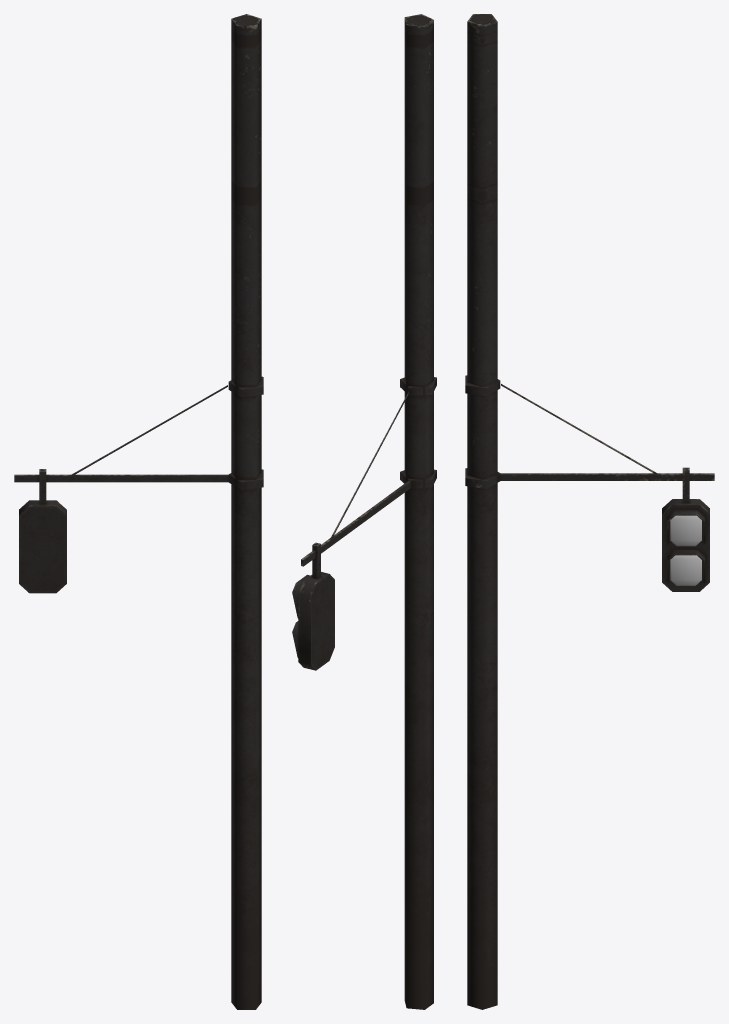
The model's file is jctlowTrafficLightE.fbx.
The picture shows the model from 3 angles, left to right: view 1: azimuth 90°, elevation 25°; view 2: azimuth 150°, elevation 25°; view 3: azimuth 270°, elevation 25°; orthographic projection.
Parts seen in each view (by area): view 1: jctlowTrafficLightE; view 2: jctlowTrafficLightE; view 3: jctlowTrafficLightE.
Part boxes in pixels (x1,y1,x2,y2): jctlowTrafficLightE: [14, 14, 263, 1009]; jctlowTrafficLightE: [292, 14, 436, 1009]; jctlowTrafficLightE: [465, 14, 714, 1009].
Size of the model in its own units: 25.63 by 752 by 173.
